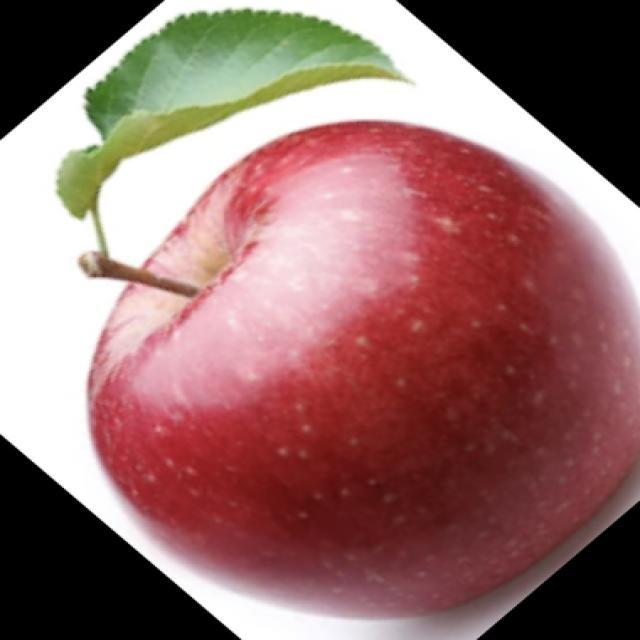Fresh Apple: (105, 128, 640, 640)
